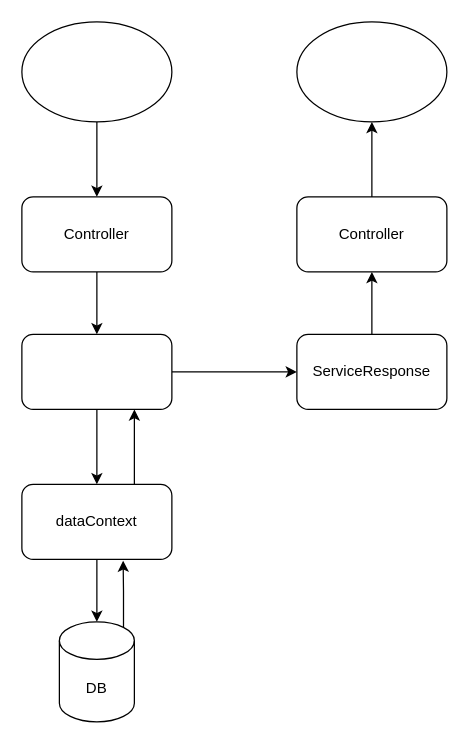
This 469x744 diagram has some shape labels left out. The centre of each missing label's shape, as x and y in pixels:
"Client Request" goes at point (96, 71).
"Client response" goes at point (371, 71).
"Service" goes at point (96, 371).
